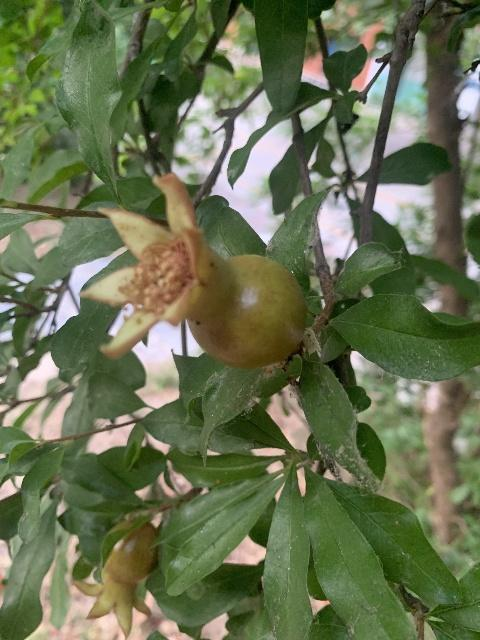early-fruit: (81, 173, 306, 369), (73, 519, 159, 636)
